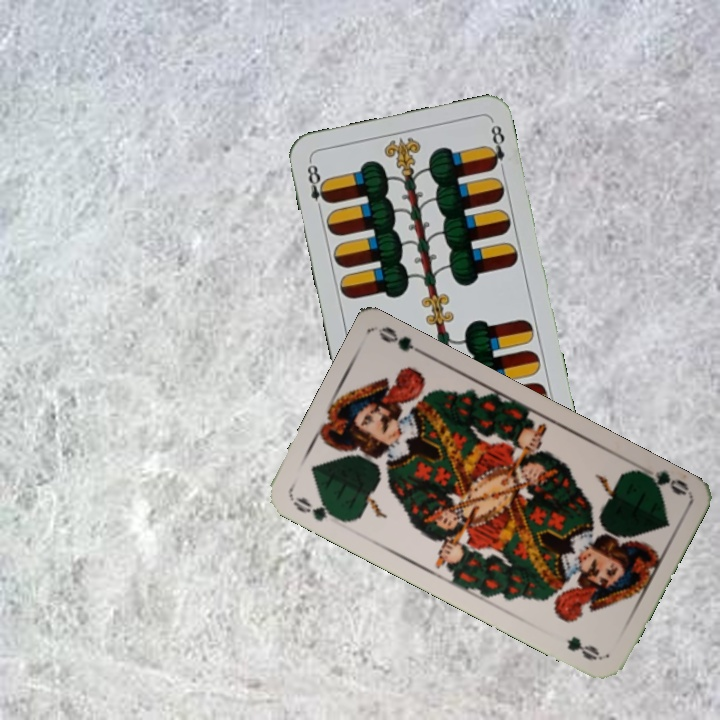E8: (303, 157, 332, 216)
GO: (631, 466, 690, 498), (288, 492, 344, 524)
